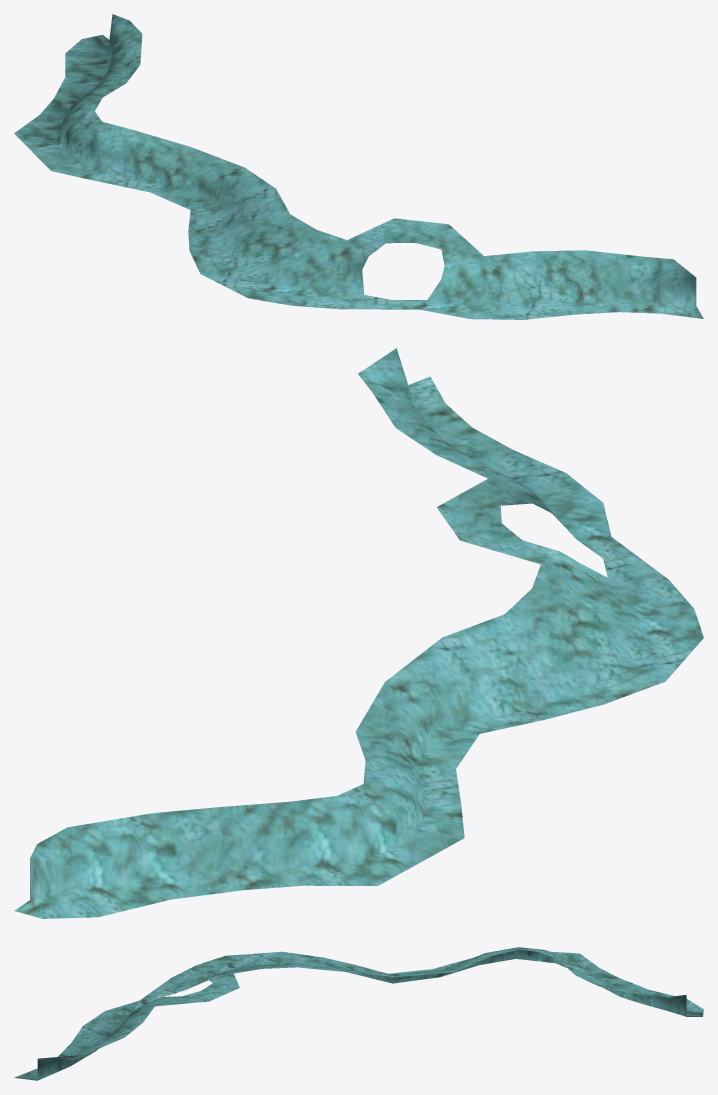
Rendered from EKH_CAVERNS_PS_CA_LAKE_BANK_TRIN4646.fbx.
3 renders of one model, top to bottom at view 1: azimuth 30°, elevation 25°; view 2: azimuth 150°, elevation 25°; view 3: azimuth 270°, elevation 25°, orthographic. The views are drawn at different scales.
Parts seen in each view (by area): view 1: EKH_CAVERNS_PS_CA_LAKE_BANK_TRIN4646; view 2: EKH_CAVERNS_PS_CA_LAKE_BANK_TRIN4646; view 3: EKH_CAVERNS_PS_CA_LAKE_BANK_TRIN4646.
Part boxes in pixels (x1=…): EKH_CAVERNS_PS_CA_LAKE_BANK_TRIN4646: x1=14, y1=14, x2=703, y2=319; EKH_CAVERNS_PS_CA_LAKE_BANK_TRIN4646: x1=14, y1=348, x2=703, y2=918; EKH_CAVERNS_PS_CA_LAKE_BANK_TRIN4646: x1=14, y1=947, x2=703, y2=1080.
Size of the model in its own units: 128076 by 12312 by 282380.
1 material, 1 textured.
